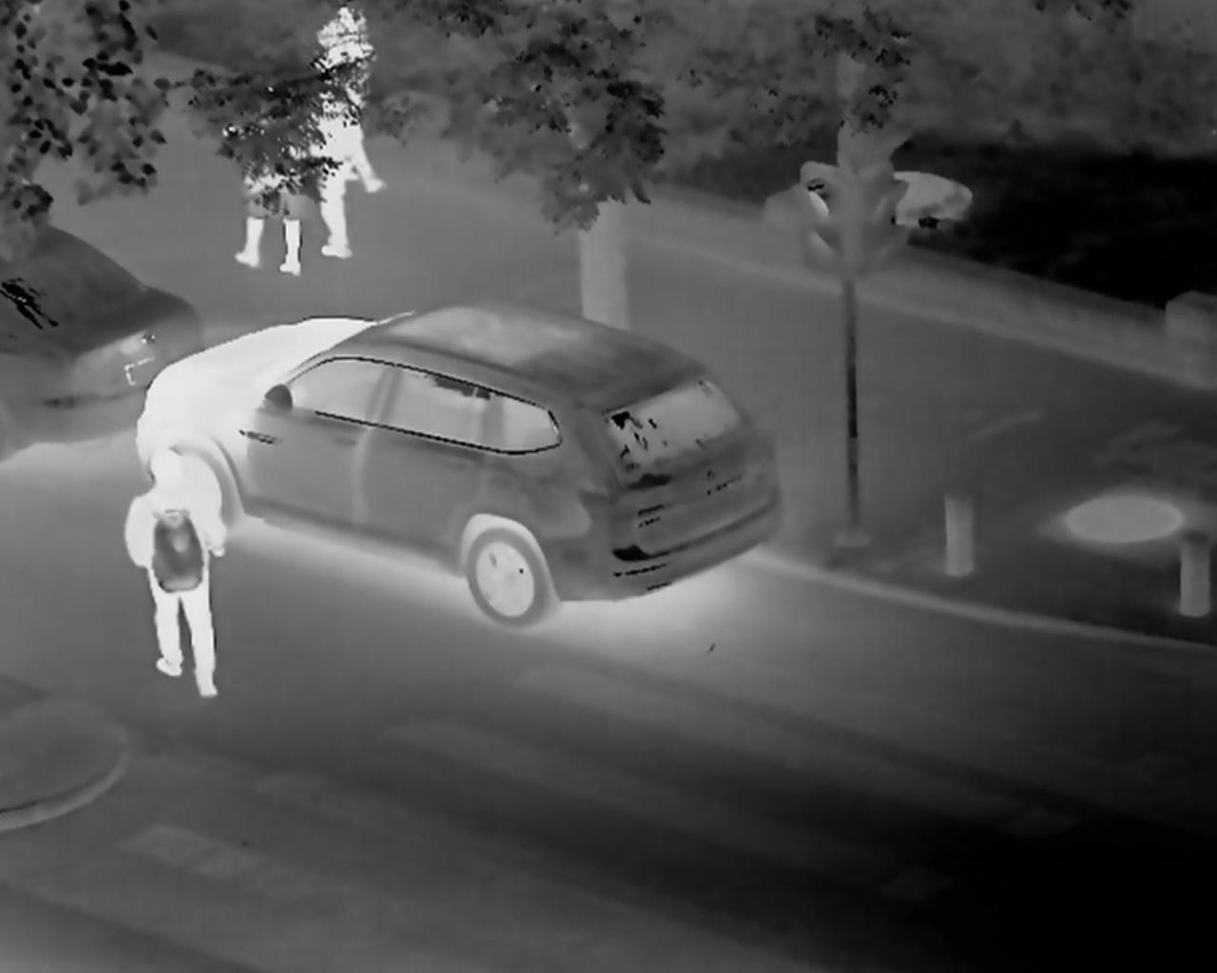person: (126, 446, 240, 722), (245, 102, 303, 281), (334, 6, 377, 190), (316, 80, 345, 273)
